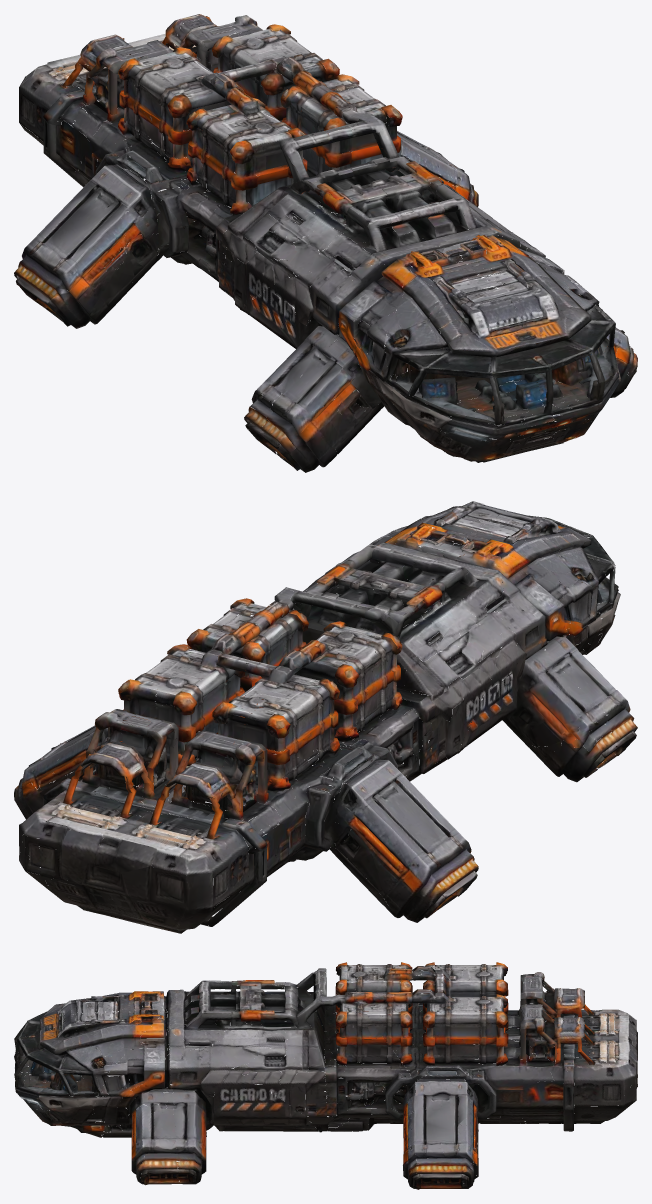
File: small_cargo-v3.glb
3 views of the same model, one above another, from view 1: azimuth 30°, elevation 25°; view 2: azimuth 150°, elevation 25°; view 3: azimuth 270°, elevation 25° (orthographic). The views are drawn at different scales.
Visible parts, largest first — view 1: tripo_node_6470ed89-9356-41f2-89d8-110653868b30; view 2: tripo_node_6470ed89-9356-41f2-89d8-110653868b30; view 3: tripo_node_6470ed89-9356-41f2-89d8-110653868b30.
Boxes of the visible parts, x1,y1,x2,y2 form: tripo_node_6470ed89-9356-41f2-89d8-110653868b30: [14, 14, 637, 472]; tripo_node_6470ed89-9356-41f2-89d8-110653868b30: [14, 501, 637, 933]; tripo_node_6470ed89-9356-41f2-89d8-110653868b30: [14, 962, 637, 1189].
Bounding box in the file's own units: 0.5457 × 0.2651 × 0.9798.
1 material, 1 textured.
